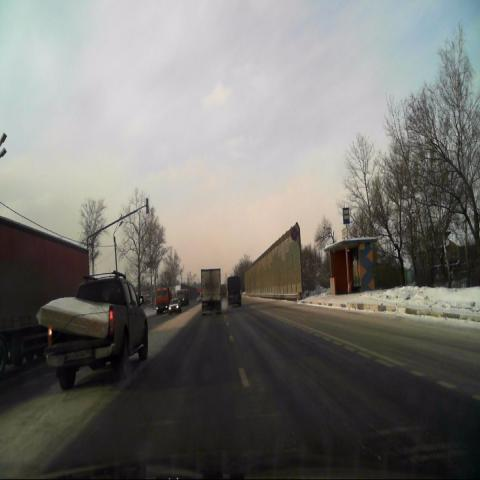5_16: (342, 208, 350, 223)
